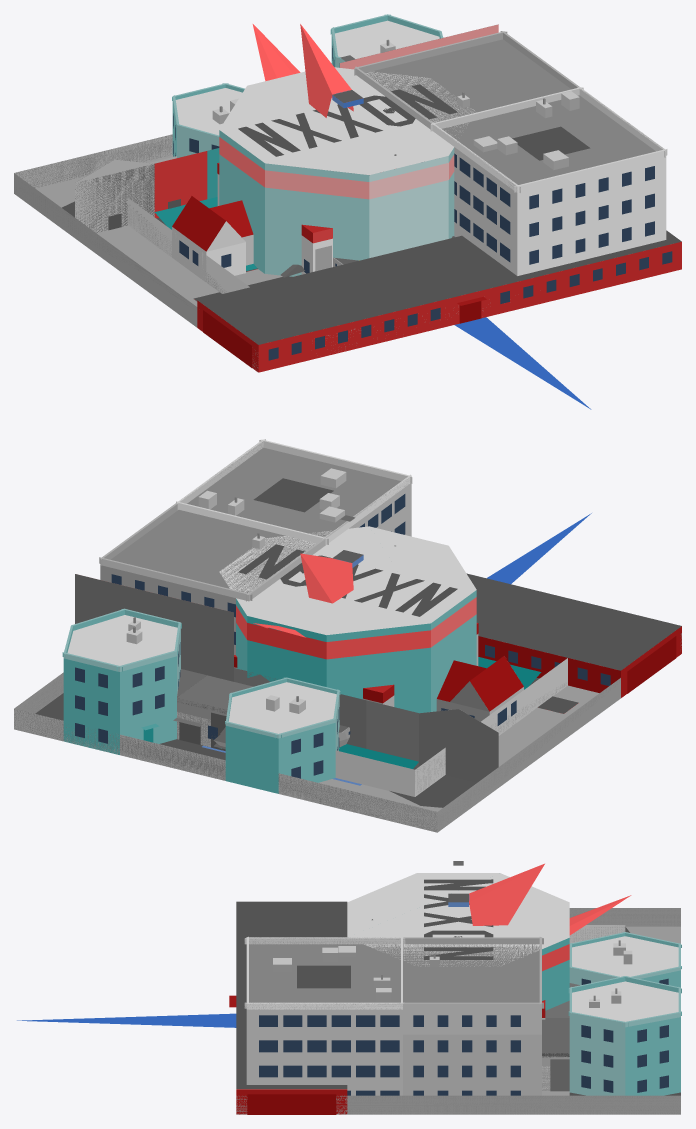
Rendered from photo.glb.
3 renders of one model, top to bottom at view 1: azimuth 30°, elevation 25°; view 2: azimuth 150°, elevation 25°; view 3: azimuth 270°, elevation 25°, orthographic. The views are drawn at different scales.
Parts seen in each view (by area): view 1: photo_004_lod0_s1v0, photo_009_lod0, photo_002_lod0_s1v0, photo_002_lod1_s1v0, photo_010_lod0, photo_009_lod0_s1v0, photo_011_lod0_s1v0, photo_002_lod0_s1v0_detail, photo_011_lod1_s1v0, photo_024_lod0_s1v0_detail, photo_009_lod0_detail, photo_012_lod0 (+8 smaller); view 2: photo_004_lod0_s1v0, photo_009_lod0_s1v0, photo_010_lod0, photo_009_lod0, photo_002_lod1_s1v0, photo_002_lod0_s1v0, photo_011_lod0_s1v0, photo_011_lod1_s1v0, photo_012_lod0, photo_009_lod0_s1v0_detail, photo_024_lod0_s1v0_detail, photo_002_lod0_s1v0_detail (+7 smaller); view 3: photo_002_lod0_s1v0, photo_002_lod1_s1v0, photo_009_lod0_s1v0, photo_004_lod0_s1v0, photo_024_lod0_s1v0_detail, photo_010_lod0, photo_002_lod0, photo_009_lod0, photo_002_lod0_s1v0_detail, photo_009_lod0_s1v0_detail, photo_008_lod0_s1v1, photo_009_lod0_detail (+4 smaller).
Part boxes in pixels (x1=…): photo_004_lod0_s1v0: x1=219, y1=67, x2=476, y2=276; photo_009_lod0: x1=197, y1=230, x2=681, y2=372; photo_002_lod0_s1v0: x1=442, y1=95, x2=666, y2=275; photo_002_lod1_s1v0: x1=366, y1=39, x2=655, y2=267; photo_010_lod0: x1=14, y1=134, x2=482, y2=372; photo_009_lod0_s1v0: x1=35, y1=20, x2=439, y2=306; photo_011_lod0_s1v0: x1=62, y1=24, x2=498, y2=301; photo_002_lod0_s1v0_detail: x1=430, y1=87, x2=667, y2=264; photo_011_lod1_s1v0: x1=75, y1=29, x2=476, y2=232; photo_024_lod0_s1v0_detail: x1=354, y1=31, x2=665, y2=258; photo_009_lod0_detail: x1=203, y1=251, x2=672, y2=367; photo_012_lod0: x1=128, y1=156, x2=256, y2=293; photo_004_lod0_s1v0: x1=194, y1=526, x2=476, y2=760; photo_009_lod0_s1v0: x1=63, y1=615, x2=599, y2=811; photo_010_lod0: x1=14, y1=633, x2=681, y2=832; photo_009_lod0: x1=466, y1=573, x2=681, y2=697; photo_002_lod1_s1v0: x1=100, y1=448, x2=411, y2=709; photo_002_lod0_s1v0: x1=177, y1=447, x2=411, y2=703; photo_011_lod0_s1v0: x1=35, y1=583, x2=578, y2=807; photo_011_lod1_s1v0: x1=75, y1=574, x2=418, y2=748; photo_012_lod0: x1=177, y1=658, x2=567, y2=796; photo_009_lod0_s1v0_detail: x1=62, y1=608, x2=340, y2=778; photo_024_lod0_s1v0_detail: x1=99, y1=439, x2=411, y2=709; photo_002_lod0_s1v0_detail: x1=176, y1=439, x2=412, y2=713; photo_002_lod0_s1v0: x1=246, y1=944, x2=569, y2=1095; photo_002_lod1_s1v0: x1=246, y1=944, x2=579, y2=1095; photo_009_lod0_s1v0: x1=236, y1=926, x2=680, y2=1095; photo_004_lod0_s1v0: x1=347, y1=873, x2=569, y2=1010; photo_024_lod0_s1v0_detail: x1=244, y1=937, x2=543, y2=1095; photo_010_lod0: x1=236, y1=908, x2=680, y2=1114; photo_002_lod0: x1=403, y1=1034, x2=569, y2=1095; photo_009_lod0: x1=236, y1=901, x2=347, y2=1114; photo_002_lod0_s1v0_detail: x1=244, y1=936, x2=569, y2=1095; photo_009_lod0_s1v0_detail: x1=568, y1=932, x2=681, y2=1092; photo_008_lod0_s1v1: x1=469, y1=863, x2=544, y2=925; photo_009_lod0_detail: x1=229, y1=995, x2=336, y2=1114.
Size of what is drawn, in the model's own units: 513 by 200 by 769.
